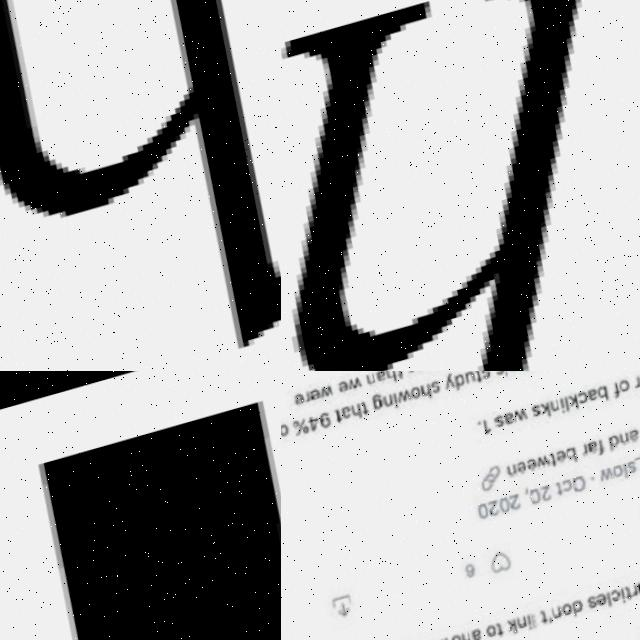0: (503, 497, 516, 515), (481, 503, 494, 521), (534, 489, 547, 506)
1: (3, 374, 281, 640), (485, 419, 496, 435)
2: (513, 494, 528, 513), (491, 500, 505, 518), (544, 486, 557, 504)
4: (309, 413, 324, 432)
6: (468, 563, 483, 580)
9: (320, 410, 335, 429)
H: (281, 0, 640, 371)
